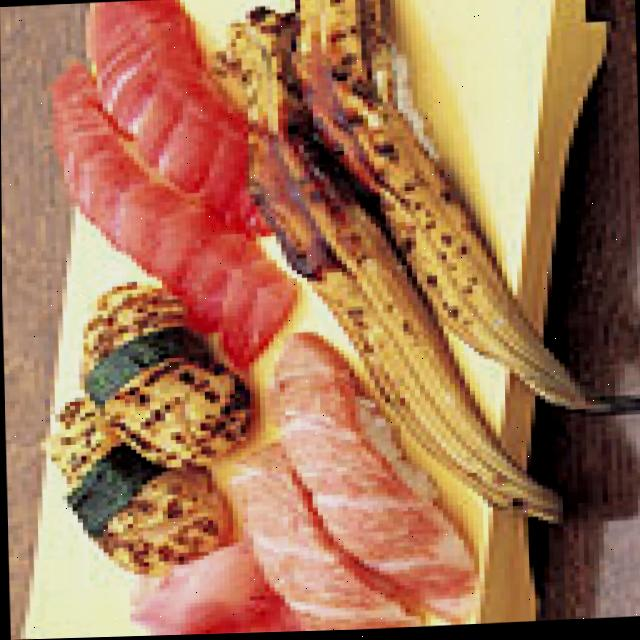寿司卷物: (4, 0, 629, 640)
